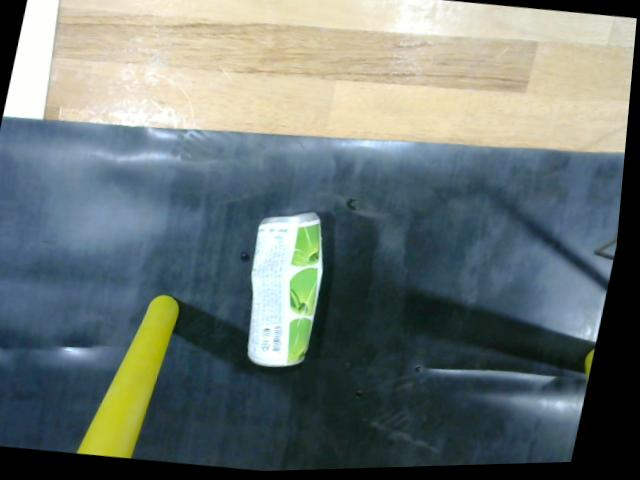can: (250, 212, 332, 377)
